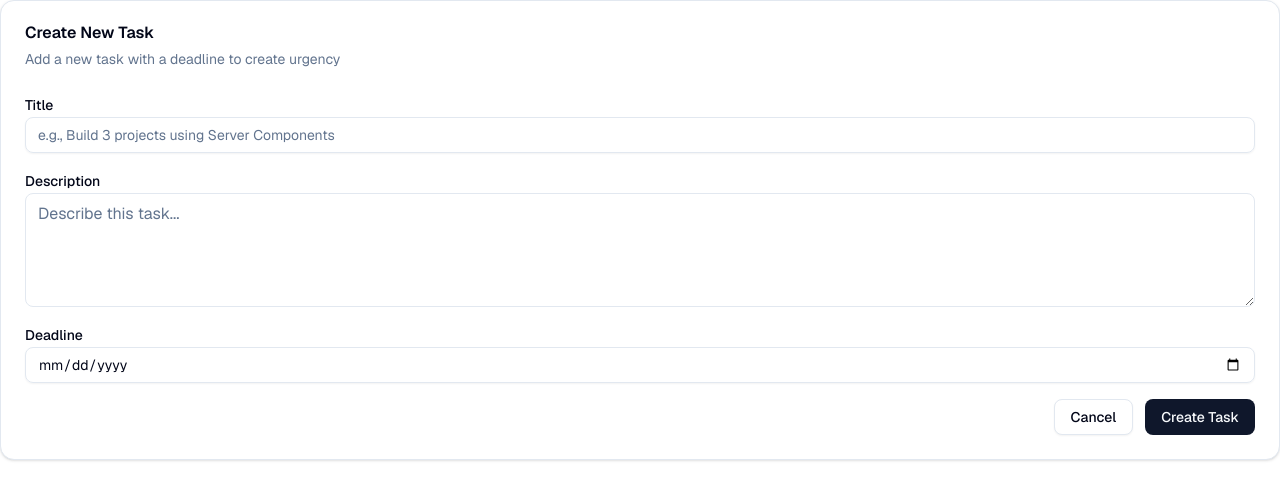
Test case: TaskForm › Create mode › should show loading state during submission
The image size is (1280, 478).
In the field labelled "Title": (640, 135) [25,117,1255,153], type "Task"
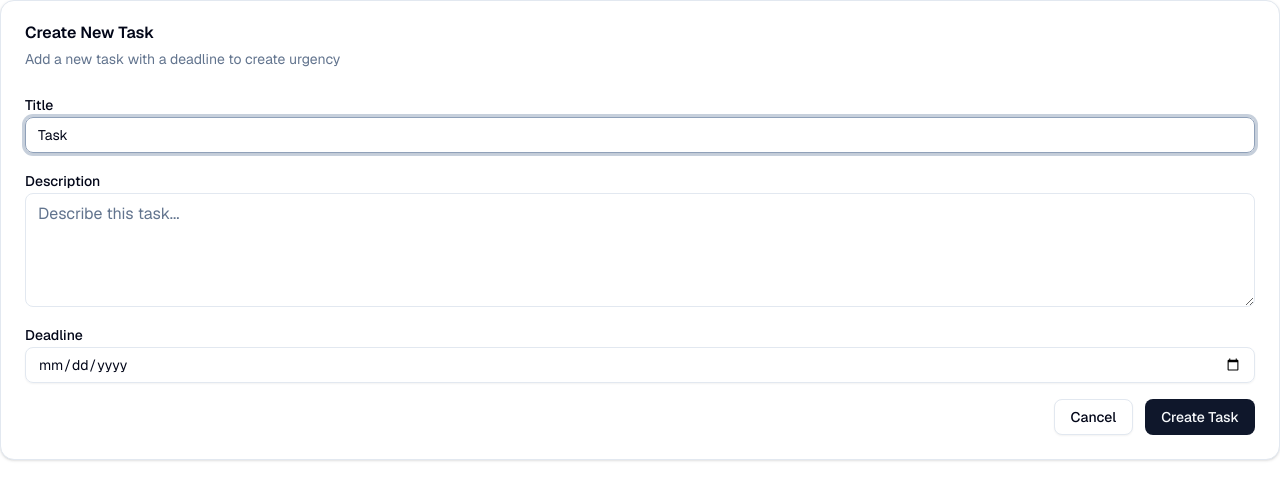
In the text box labelled "Description": (640, 250) [25,193,1255,307], type "Desc"
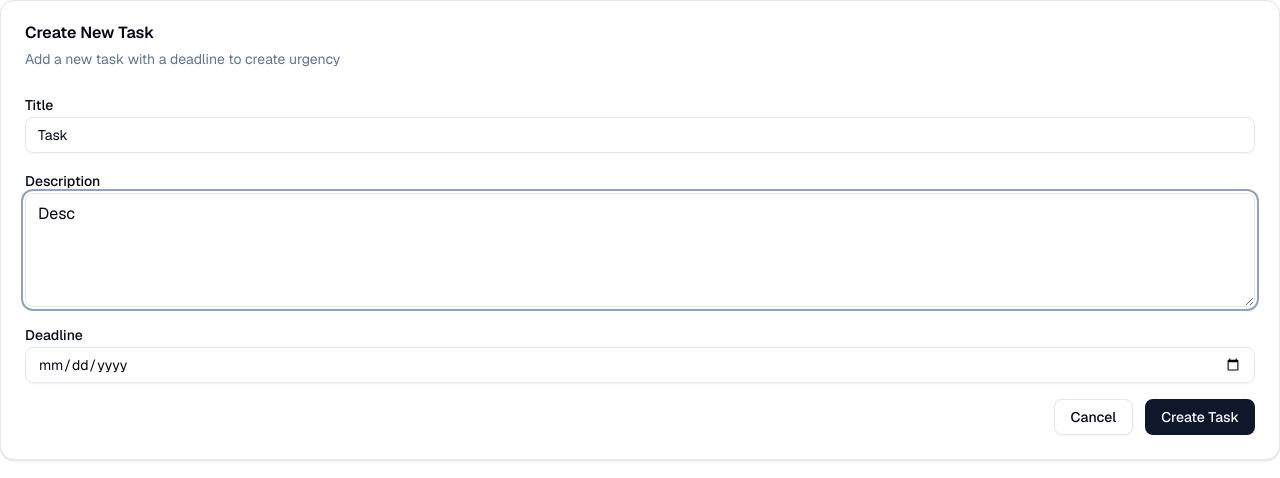
In the date field labelled "Deadline": (640, 365) [25,347,1255,383], type "2025-12-01"
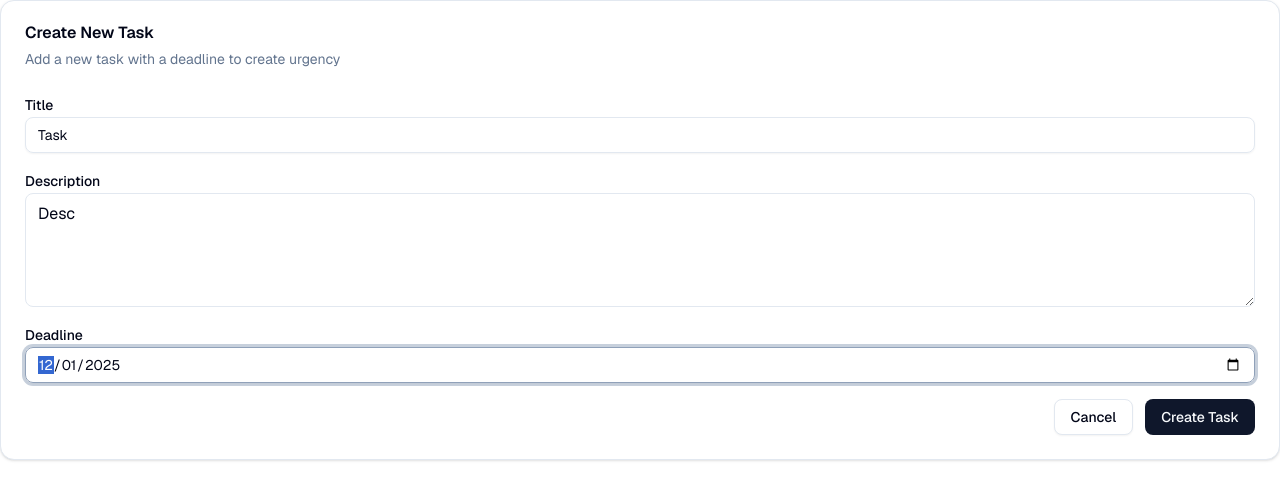
Click the button "Create Task": (1200, 417) [1145,399,1255,435]
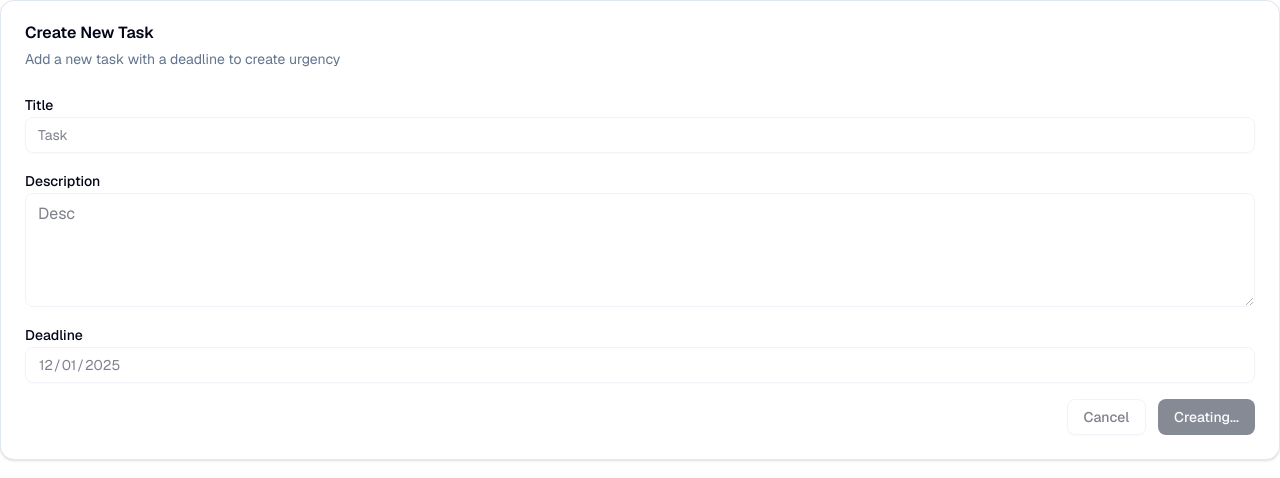
Check: the button "Creating..." is disabled, box [1158,399,1255,435]
